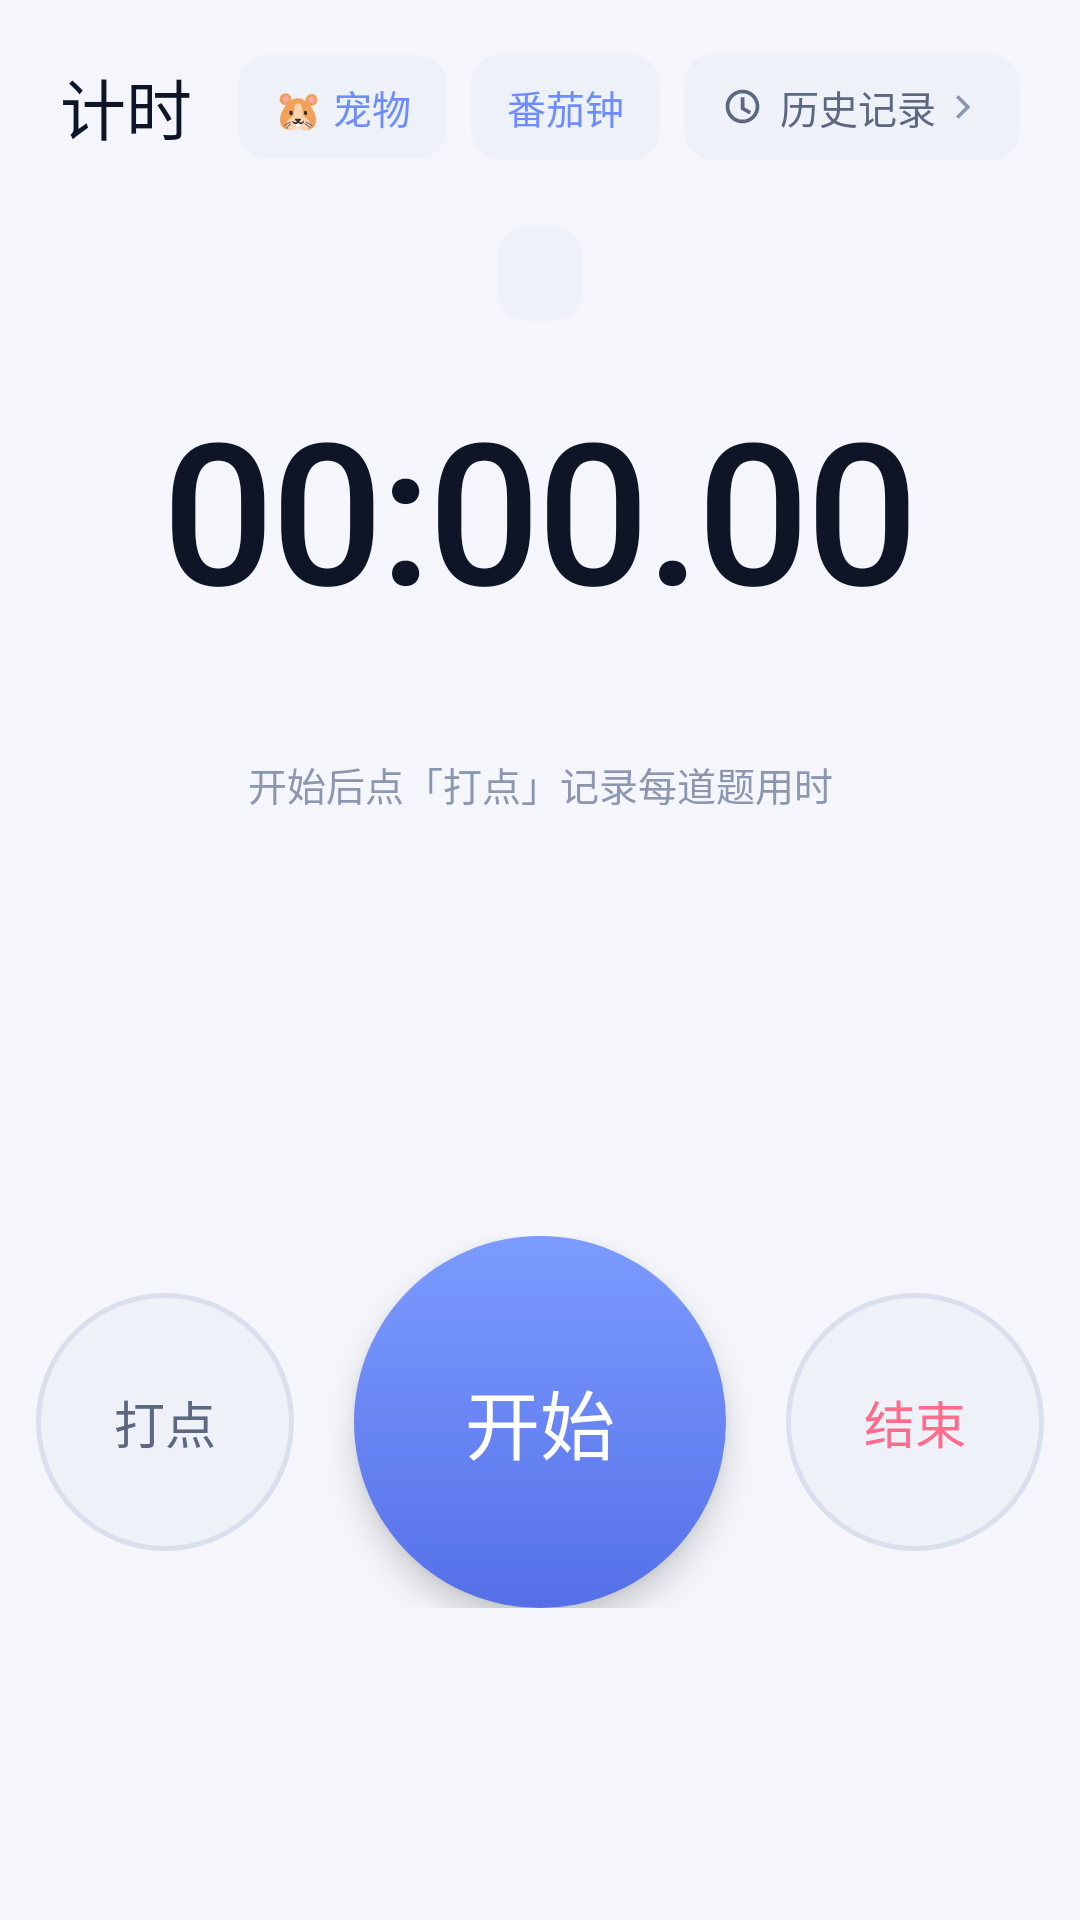

Where to tap for icons on this 1080 x 1920 app screen, as point (x, y):
chevron: point (963, 107)
